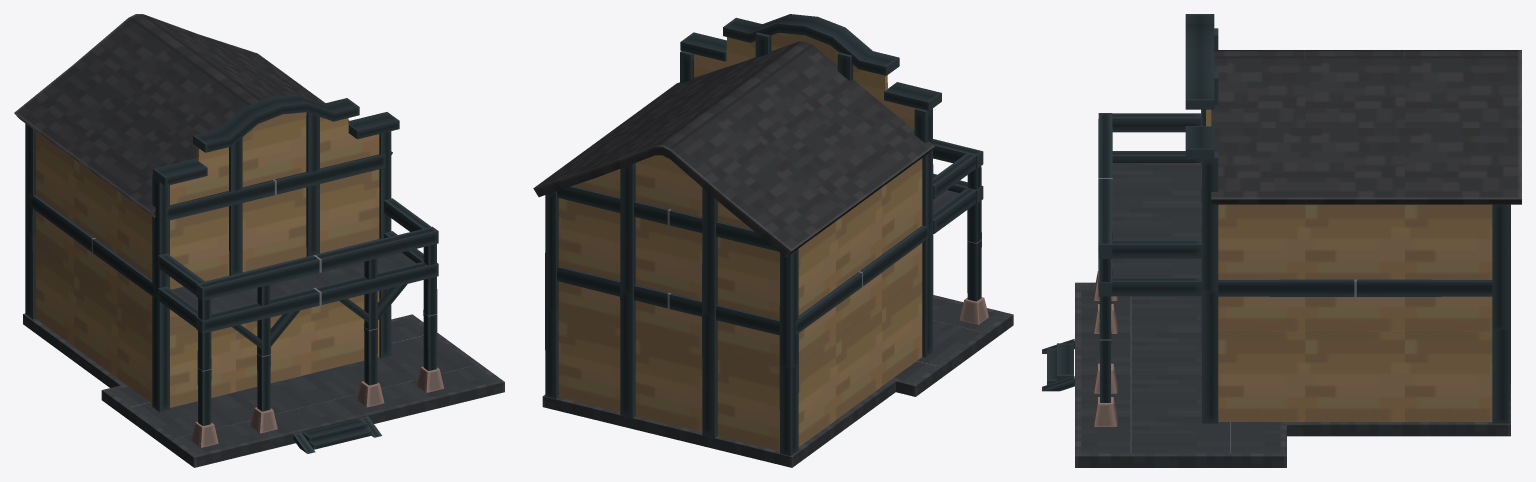
File: house_v3_blank_ncl1_2.fbx
3 views of the same model, side by side, from view 1: azimuth 30°, elevation 25°; view 2: azimuth 150°, elevation 25°; view 3: azimuth 270°, elevation 25° (orthographic). The views are drawn at different scales.
Visible parts, largest first — view 1: house_v3_blank; view 2: house_v3_blank; view 3: house_v3_blank.
Part boxes in pixels (x1,y1,x2,y2): house_v3_blank: (14,14,504,467); house_v3_blank: (533,14,1013,467); house_v3_blank: (1042,14,1521,467).
Bounding box in the file's own units: 826 × 745 × 964.
